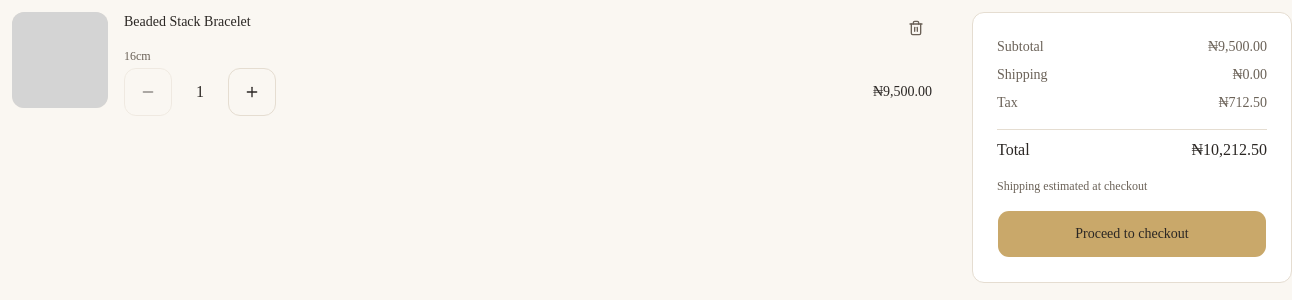
Test: CartView › removes a line and falls back to the empty state once the bag is cleared
This screenshot has width=1292, height=300.
Click the button named "Remove Beaded Stack Bracelet" at (916,28), box [900, 12, 932, 44]
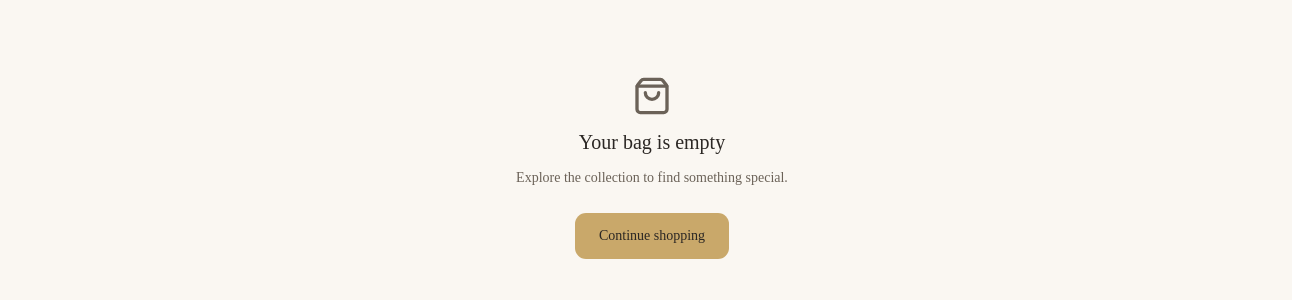
Expected: the heading "Your bag is empty" is shown, [579, 128, 725, 156]
